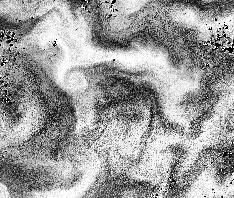CE: (54, 61, 87, 95)
